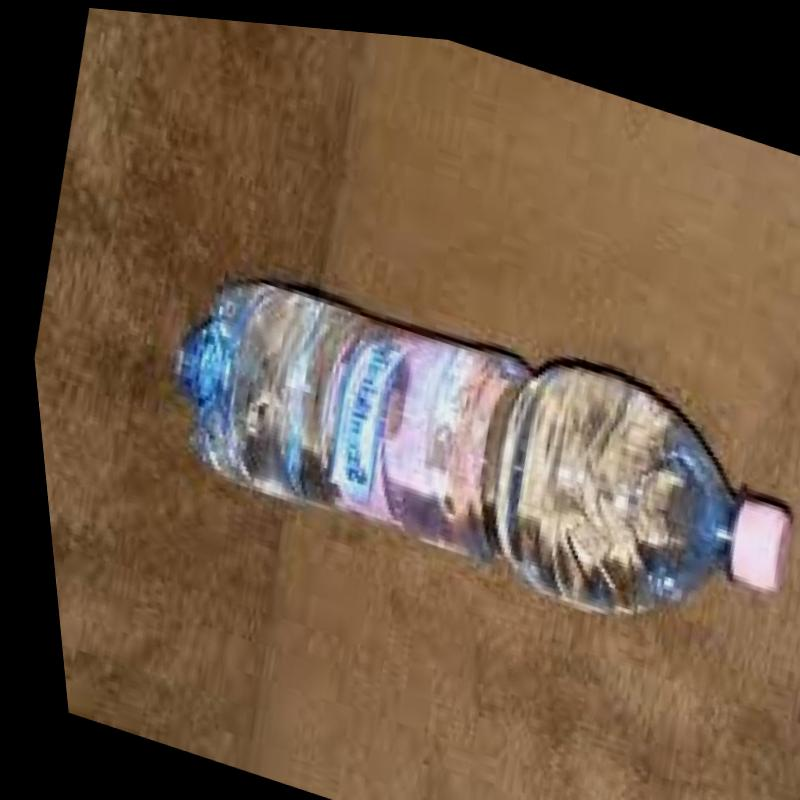botella: (132, 223, 800, 665)
